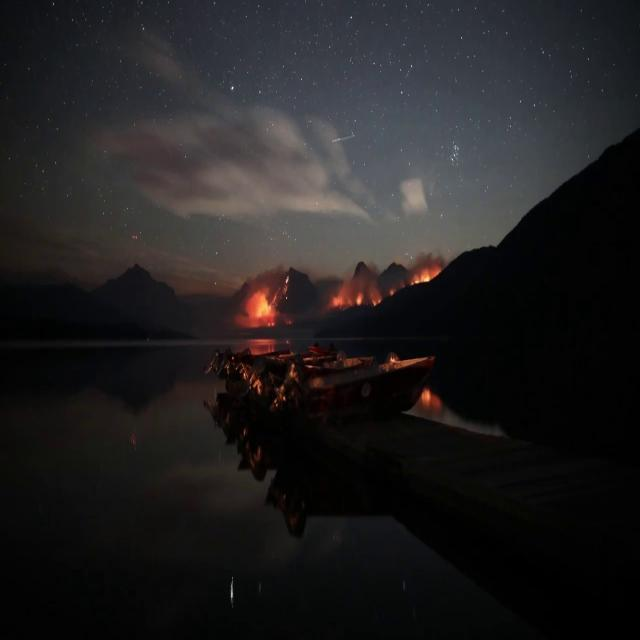Fire: (411, 268, 442, 284), (258, 298, 272, 318), (331, 294, 344, 308), (372, 297, 382, 305), (356, 293, 362, 306), (390, 287, 394, 295)
Smoke: (243, 260, 289, 304), (338, 258, 382, 294), (408, 248, 443, 272)
